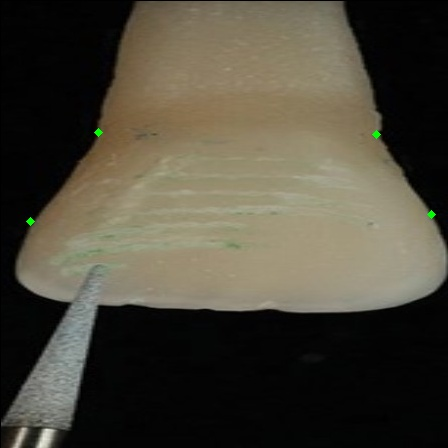coin_1: (376, 134, 396, 154)
coin_2: (431, 214, 448, 234)
coin_3: (98, 132, 118, 152)
coin_4: (30, 221, 50, 241)
